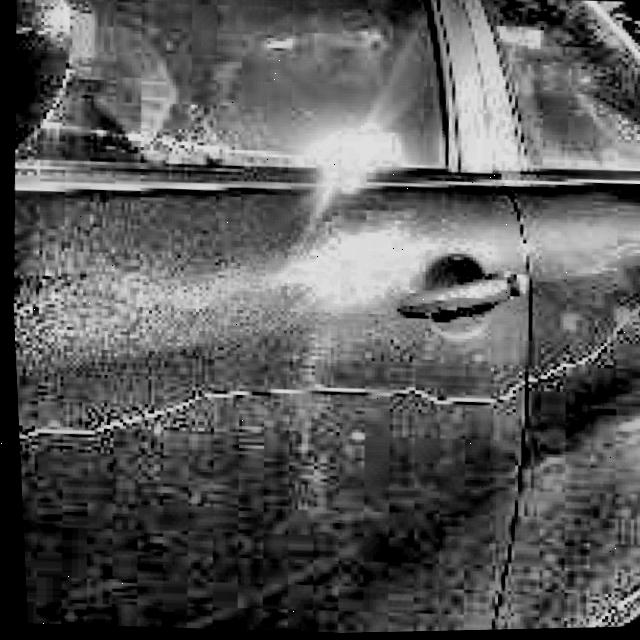door_scratch: (16, 347, 495, 483), (498, 301, 640, 416)
